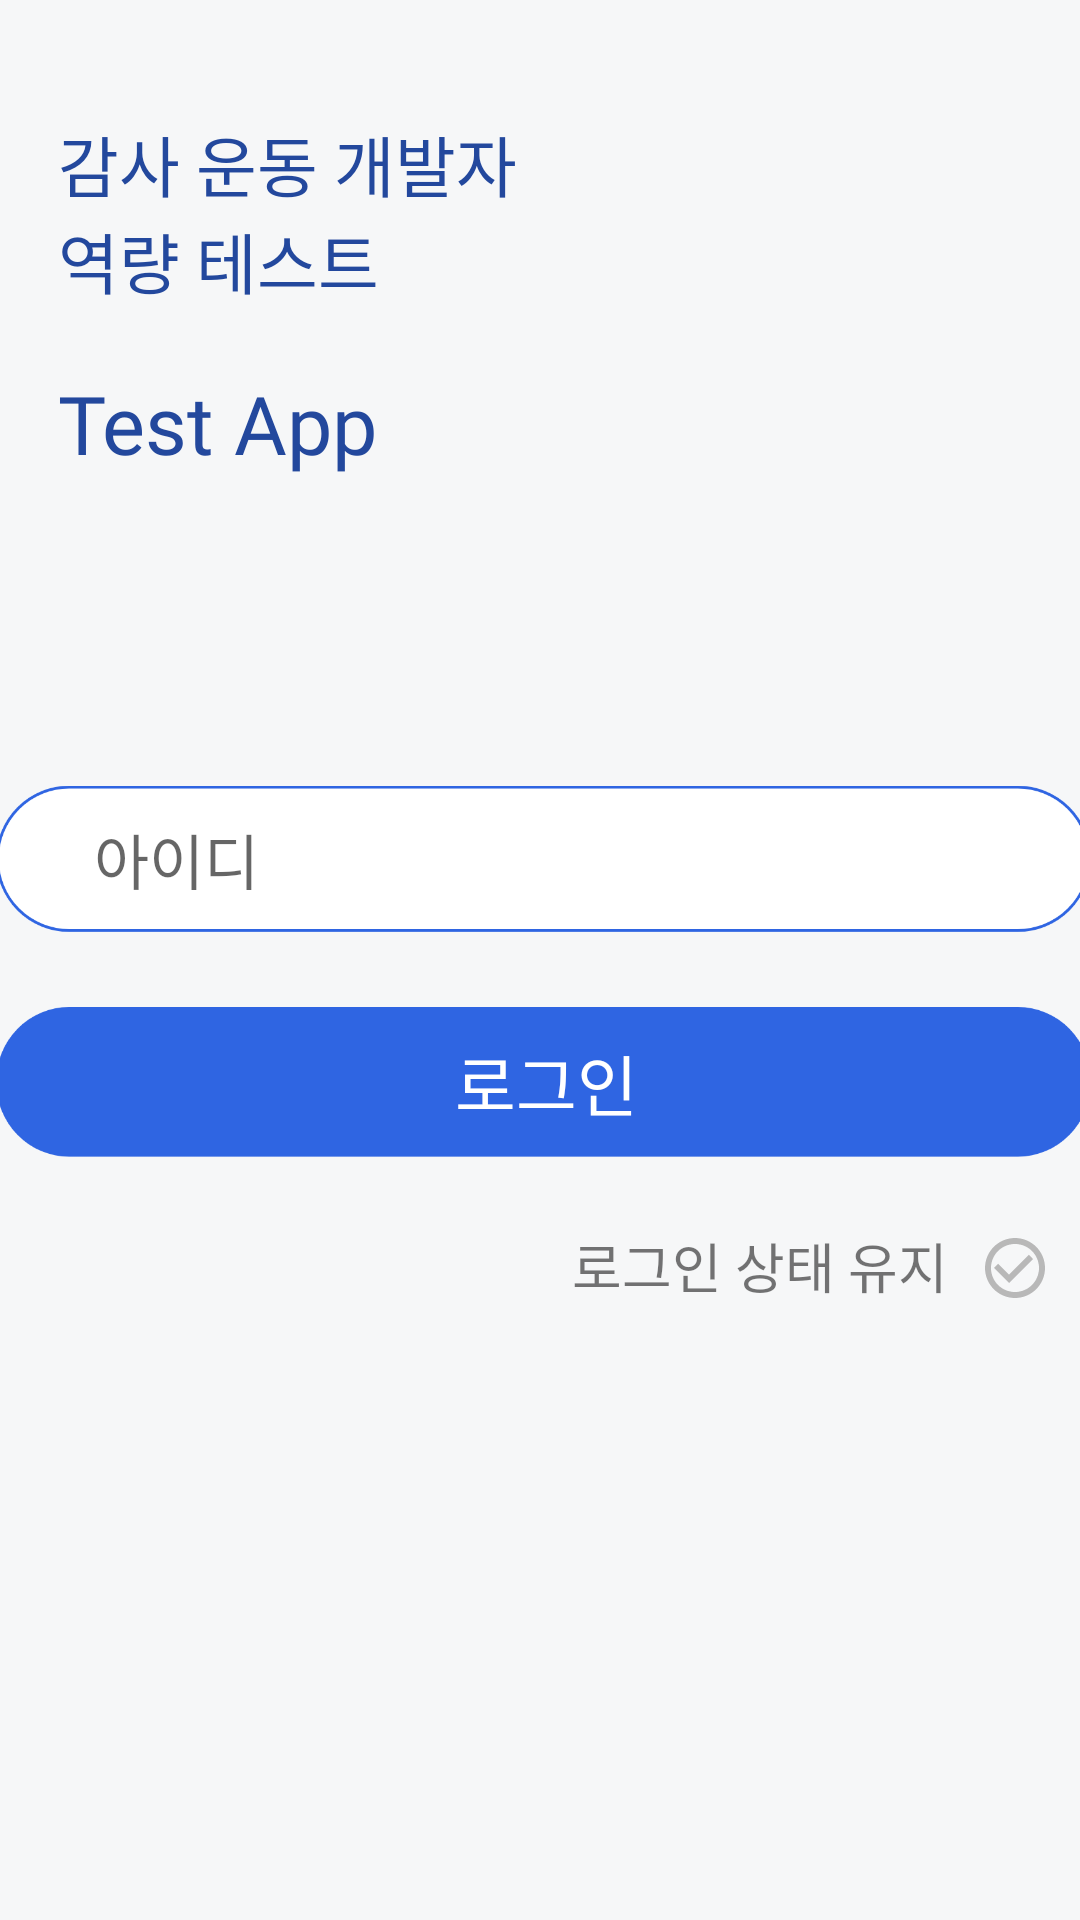

Icons on this 1080*1920 Android screen, each with the point to tap as point (x, y):
check circle no click: point (1015, 1268)
